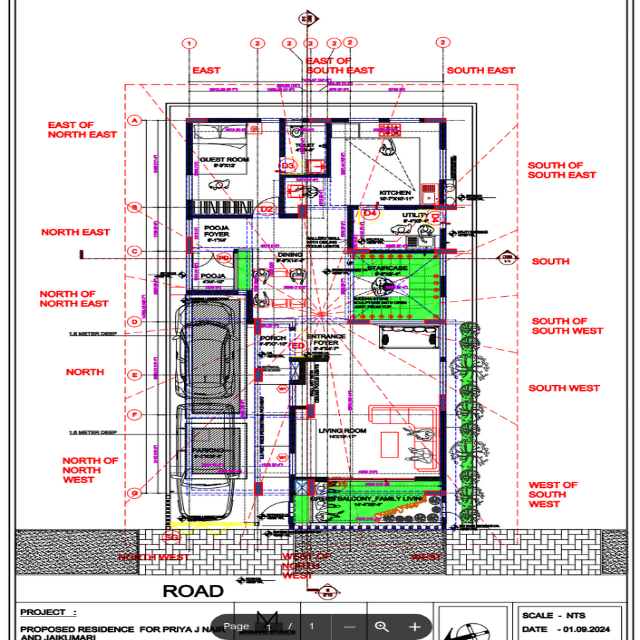door: (288, 329, 331, 358), (251, 195, 281, 217), (358, 206, 385, 228), (278, 155, 307, 175), (189, 250, 213, 269), (212, 250, 235, 268)
